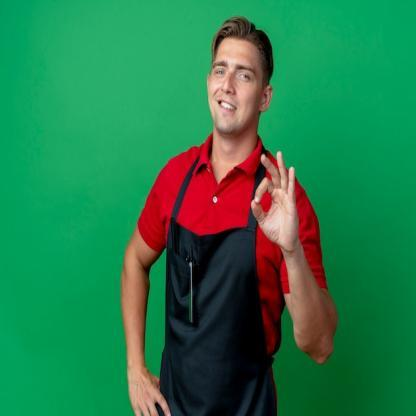ok: (249, 148, 300, 254)
